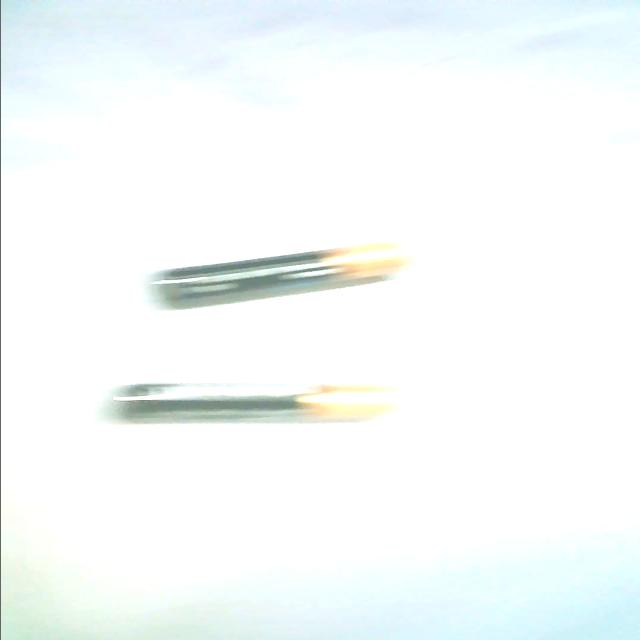AAA: (132, 235, 434, 313), (110, 378, 418, 428)
